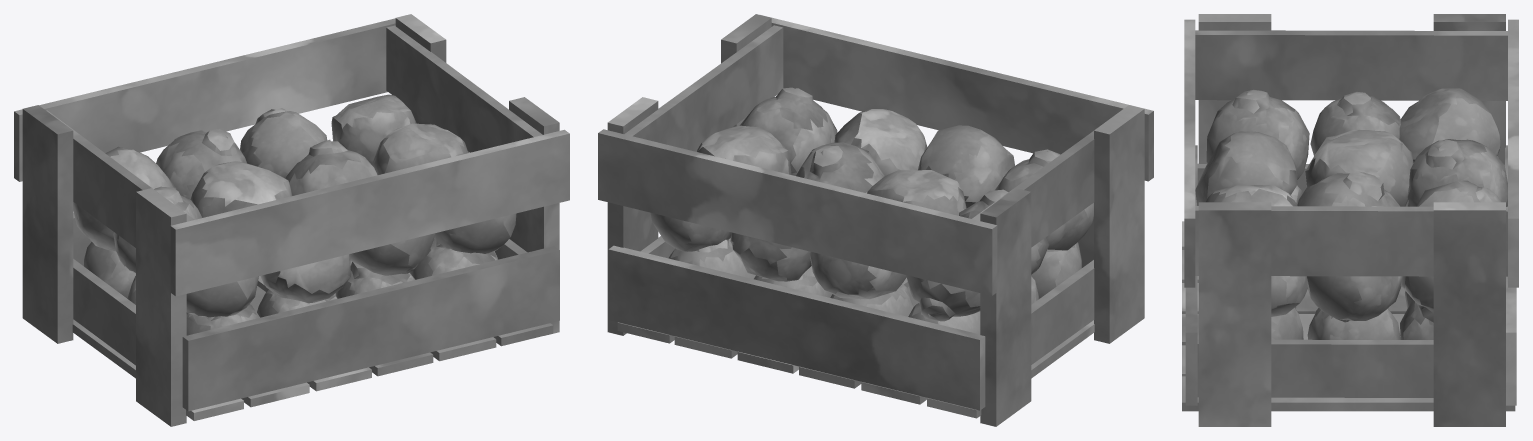
Rendered from SM_Crate_Orange_01a1.fbx.
3 renders of one model, left to right at view 1: azimuth 30°, elevation 25°; view 2: azimuth 150°, elevation 25°; view 3: azimuth 270°, elevation 25°, orthographic. The views are drawn at different scales.
Parts seen in each view (by area): view 1: SM_Crate_Orange_01a1_LOD0; view 2: SM_Crate_Orange_01a1_LOD0; view 3: SM_Crate_Orange_01a1_LOD0.
Part boxes in pixels (x1,y1,x2,y2): SM_Crate_Orange_01a1_LOD0: (14,14,569,426); SM_Crate_Orange_01a1_LOD0: (598,14,1153,426); SM_Crate_Orange_01a1_LOD0: (1182,14,1518,426).
Size of the model in its own units: 51.41 by 36.8 by 26.12.
